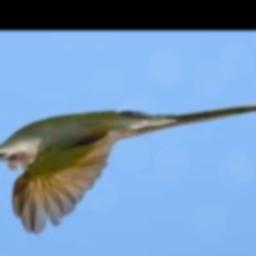Cuckoo: (0, 104, 256, 235)
